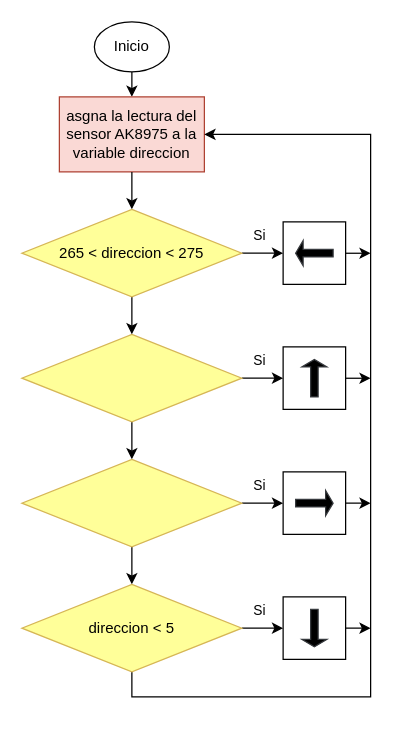
Image size: 403x729. Some labels were removed from this diagram. The shapes that lost their labels are listed below. From the top down, each one's centre as x and y in pixels, then its label:
At point (131, 377): "175 < direccion < 185".
At point (131, 502): "85 < direccion < 95".
